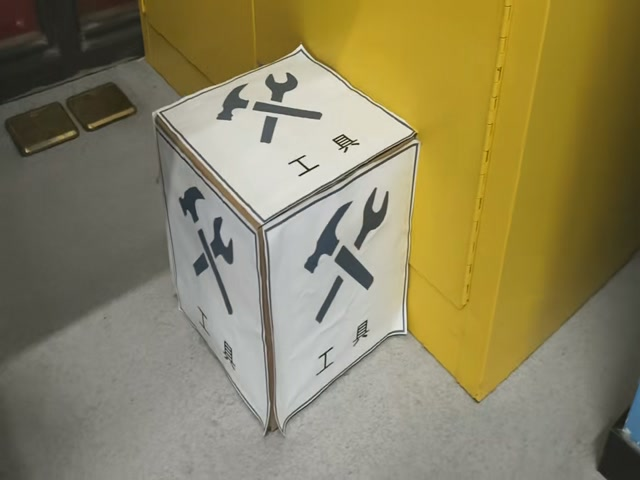Cube_tool: (152, 43, 419, 231)
